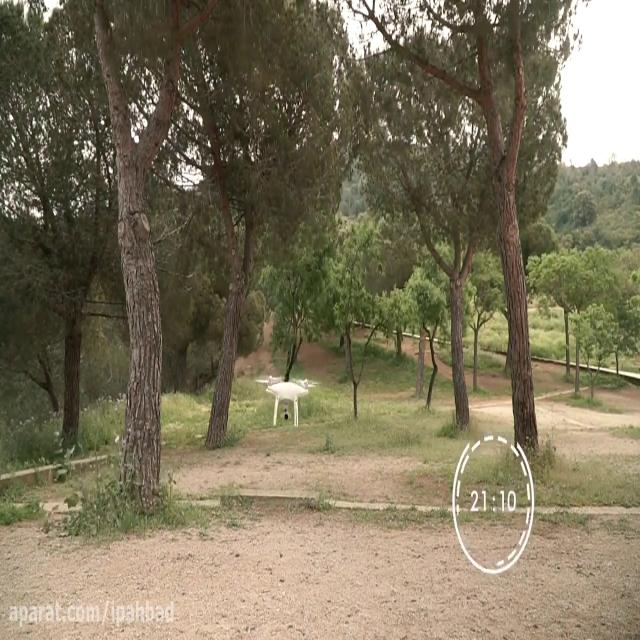drone: (255, 373, 321, 431)
